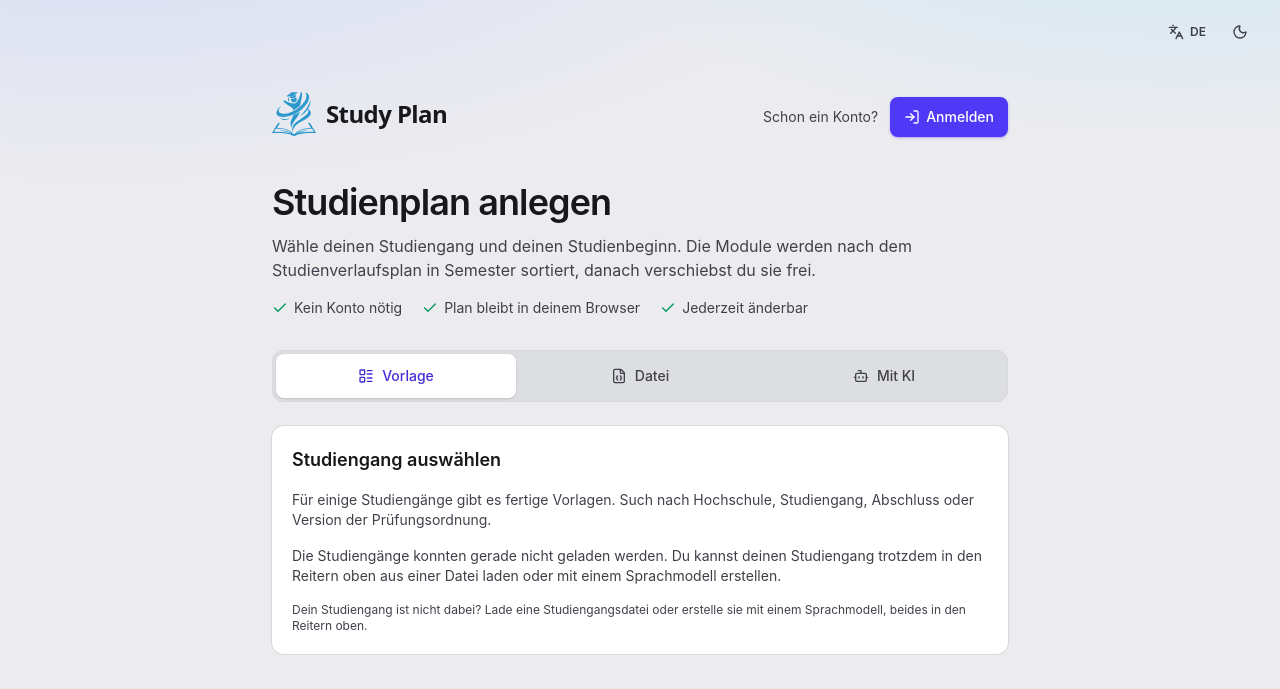
language dropdown › switches the language from the header and remembers the choice
Expected: the heading "Studienplan anlegen" is shown, [272,180,611,224]
Click the button with aria-label "Sprache: Deutsch": point(1187, 32) [1154,12,1220,52]
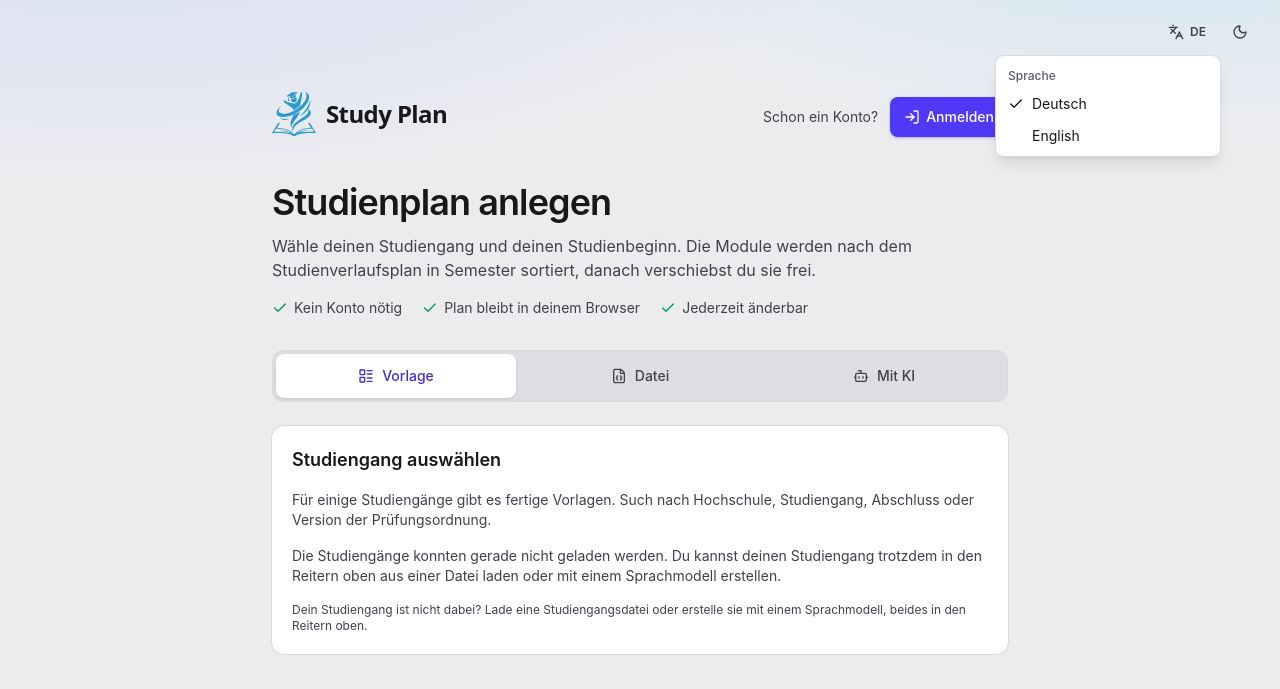
Click the menu item "English": point(1056, 136) [1032,127,1080,144]
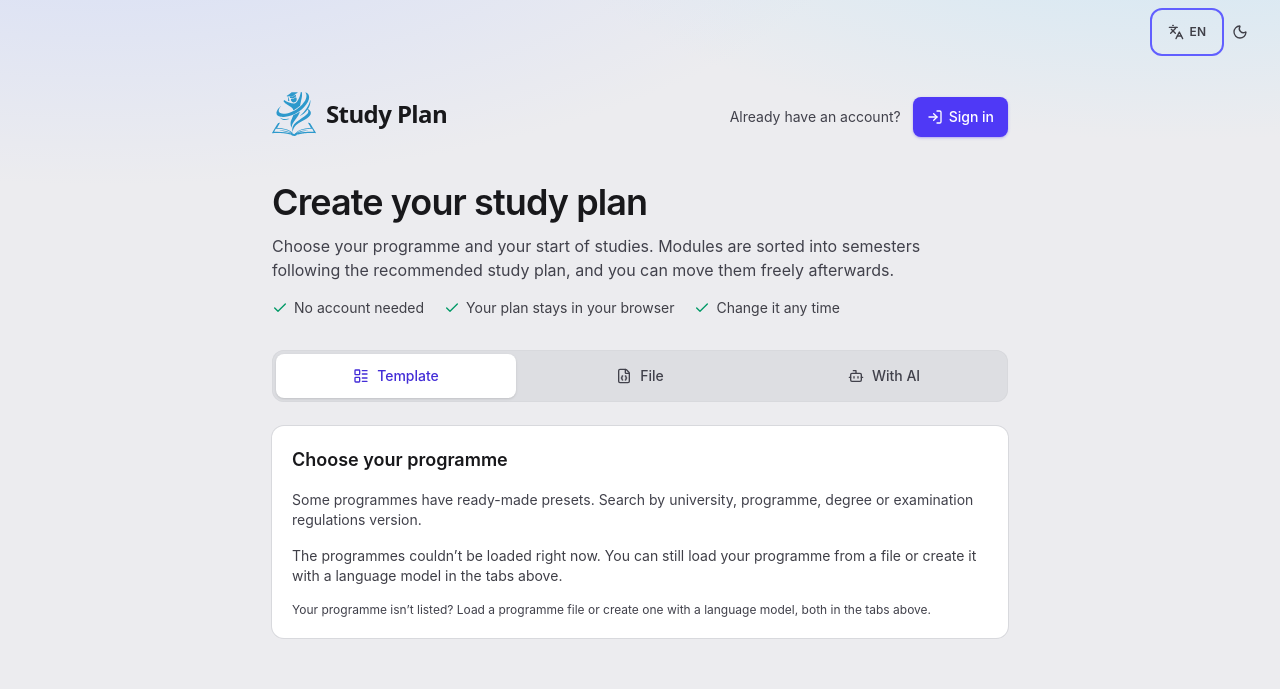
Expected: the button with aria-label "Language: English" is shown, [1154,12,1220,52]
Expected: the heading "Studienplan anlegen" is gone
